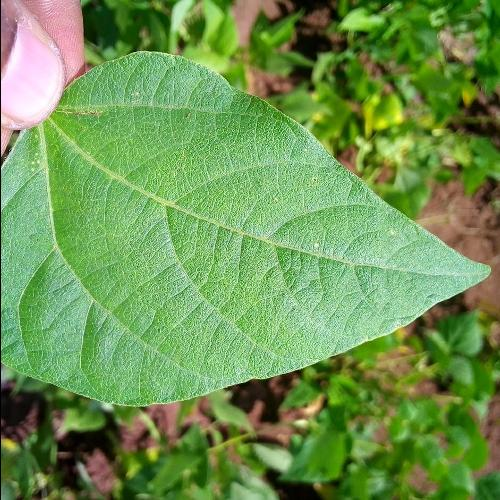sehat: (95, 121, 310, 357)
